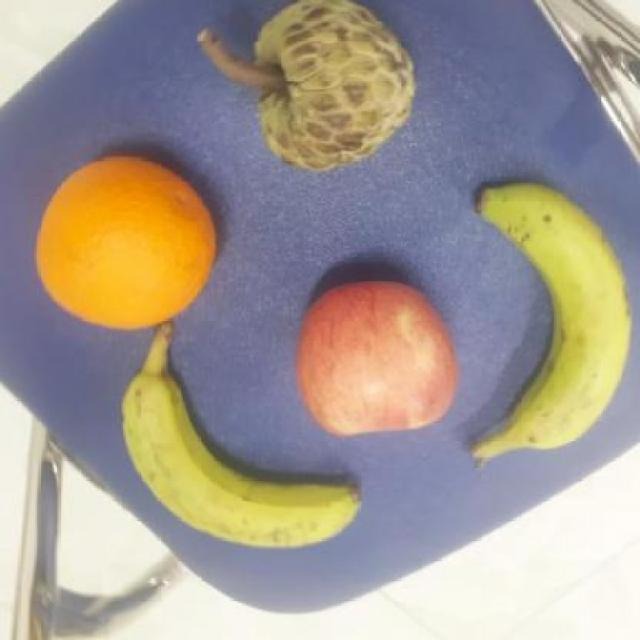apple: (291, 269, 462, 440)
banana: (118, 363, 362, 554), (468, 180, 625, 469)
oren: (31, 154, 218, 335)
sugar apple: (252, 0, 416, 172)
